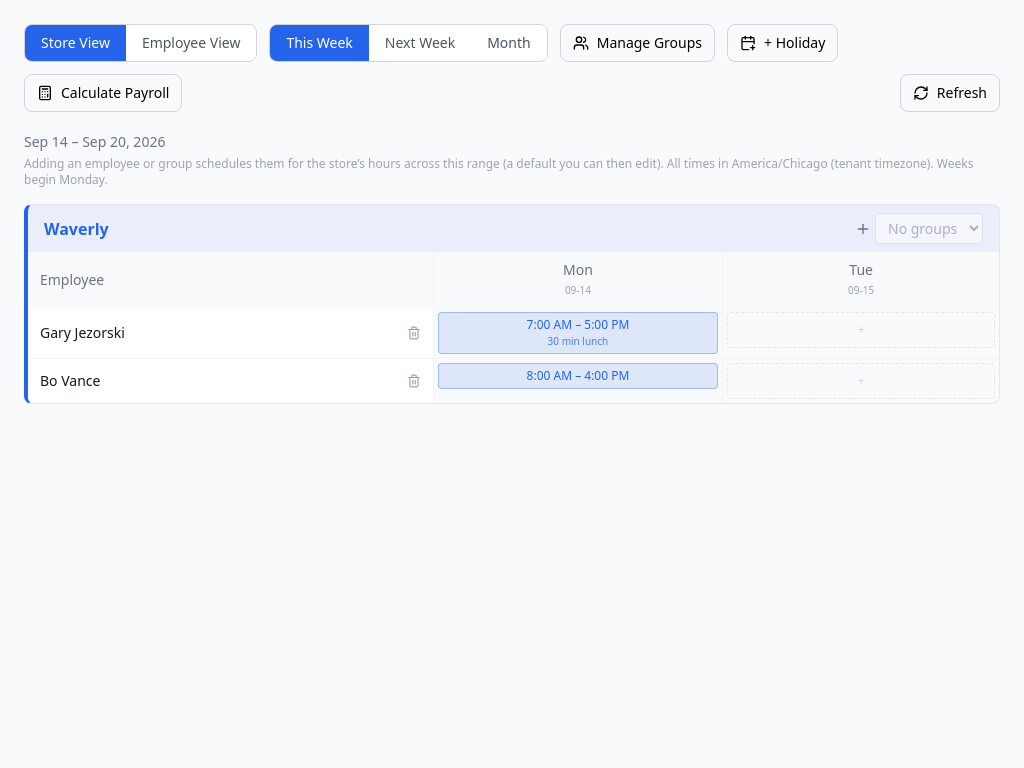
Projection modal › shows an error with Retry, and Recalculate re-reads the saved schedule
Expected: the heading "Waverly" is shown, [44,216,109,240]
Click the button "Calculate Payroll".
click(103, 93)  # box [24,74,182,112]
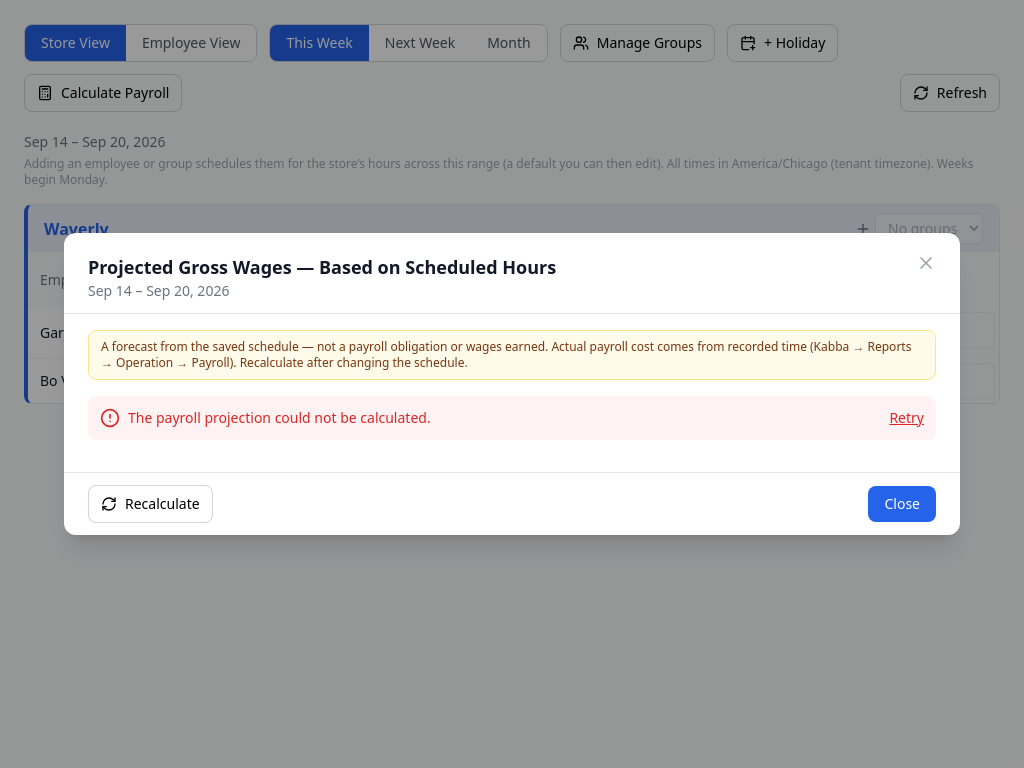
Expected: the text "The payroll projection could not be calculated." is shown, [128,408,431,428]
Click the button "Retry".
click(907, 418)  # box [889,408,924,428]
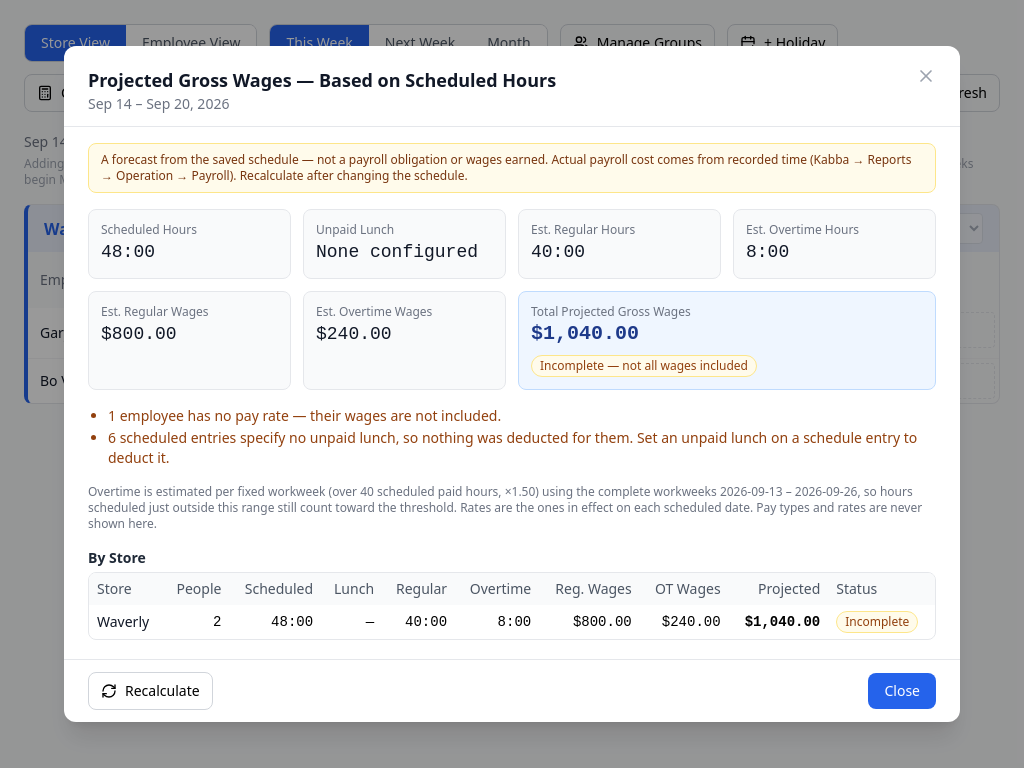
Expected: the element with test id "projection-summary" is shown, [88,209,936,390]
Click the button "Recalculate".
click(150, 691)  # box [88,672,213,710]
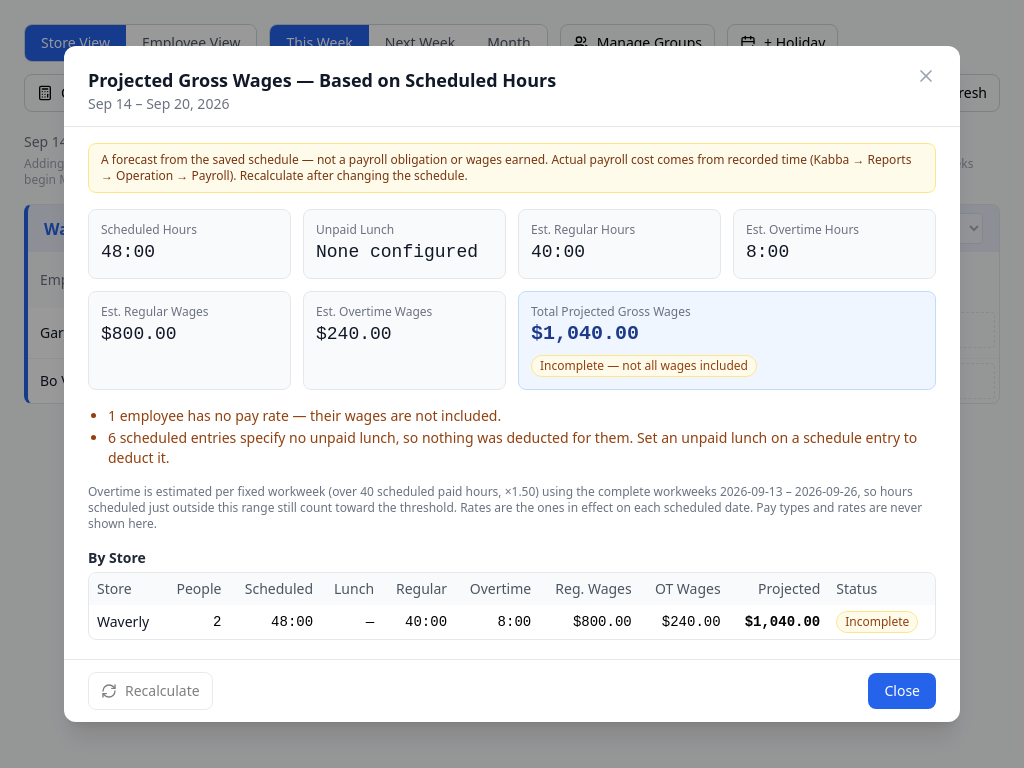
Click the button "Close".
click(902, 691)  # box [868,673,936,709]
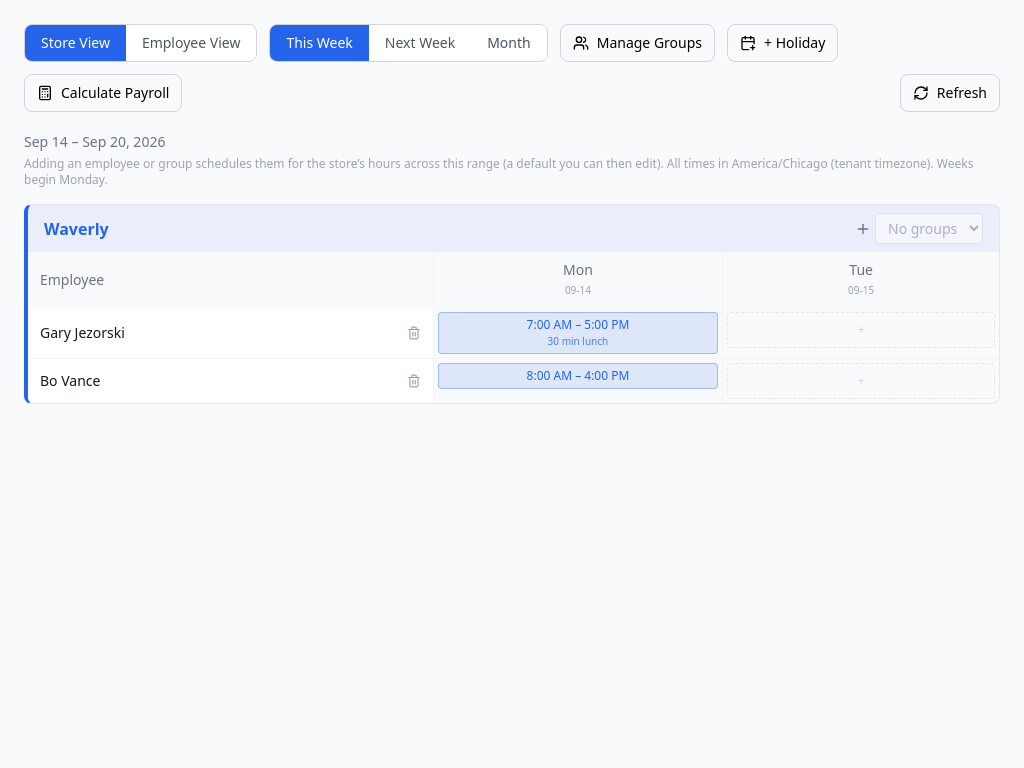
Expected: the heading "Projected Gross Wages — Based on Scheduled Hours" is gone
